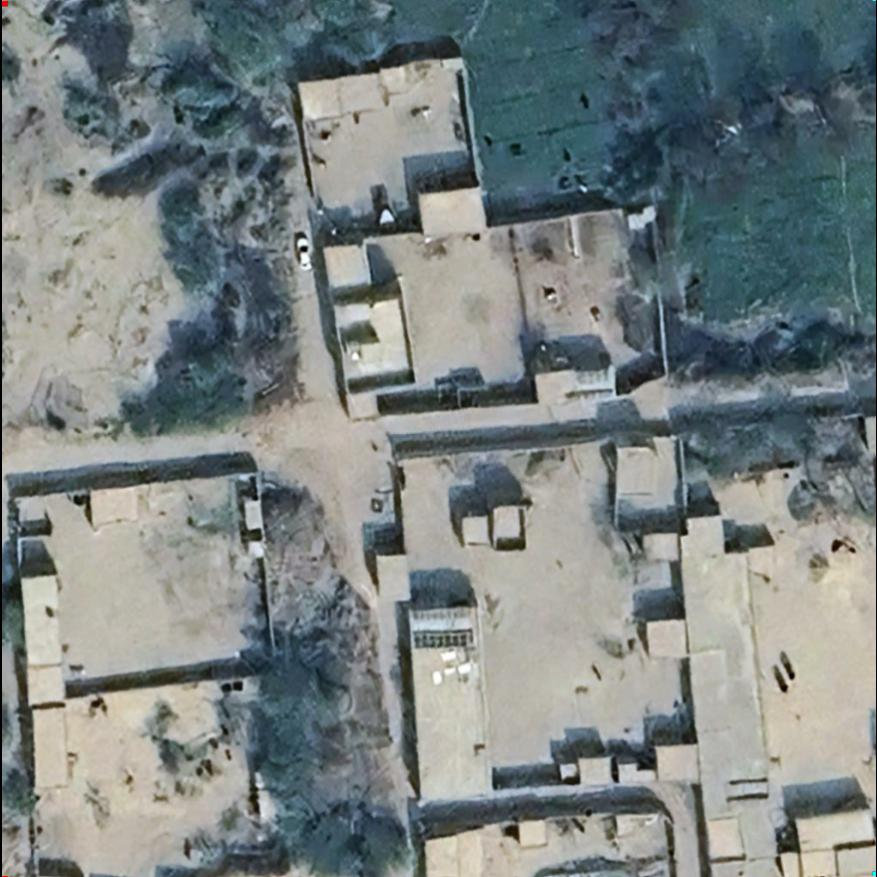Solarpanel: (409, 627, 473, 652)
